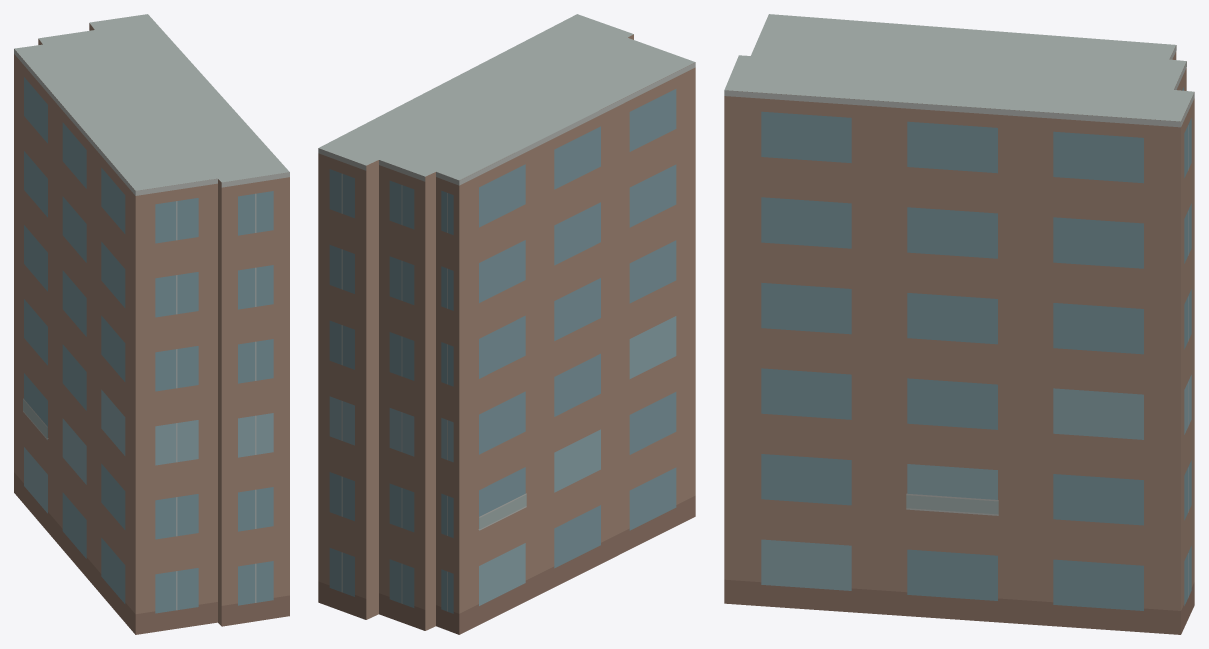
Rendered from survey-upis-32992541.glb.
The picture shows the model from 3 angles, left to right: view 1: azimuth 30°, elevation 25°; view 2: azimuth 150°, elevation 25°; view 3: azimuth 270°, elevation 25°; orthographic projection. The views are drawn at different scales.
Visible parts, largest first — view 1: survey-upis-32992541.tmp; view 2: survey-upis-32992541.tmp; view 3: survey-upis-32992541.tmp.
Boxes of the visible parts, x1,y1,x2,y2 form: survey-upis-32992541.tmp: [14, 14, 289, 634]; survey-upis-32992541.tmp: [318, 14, 695, 634]; survey-upis-32992541.tmp: [724, 14, 1194, 634].
Bounding box in the file's own units: 9.62 × 21.4 × 17.78.
